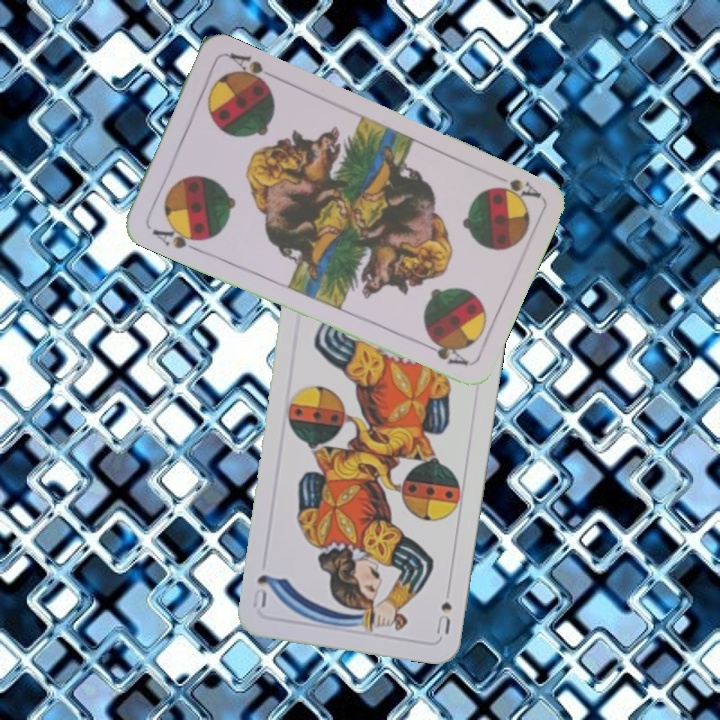SA: (148, 219, 205, 254), (487, 174, 543, 204)
SU: (432, 598, 455, 637)
